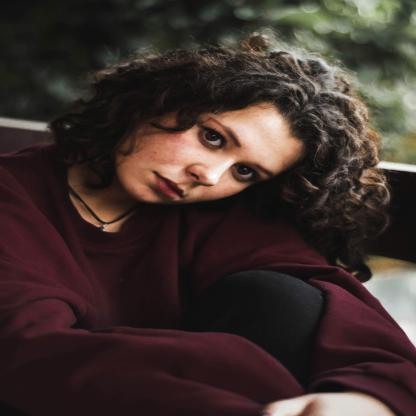Eye: (193, 122, 230, 151), (228, 158, 258, 182)
Mouth: (146, 167, 188, 201)
Nose: (182, 155, 230, 187)
